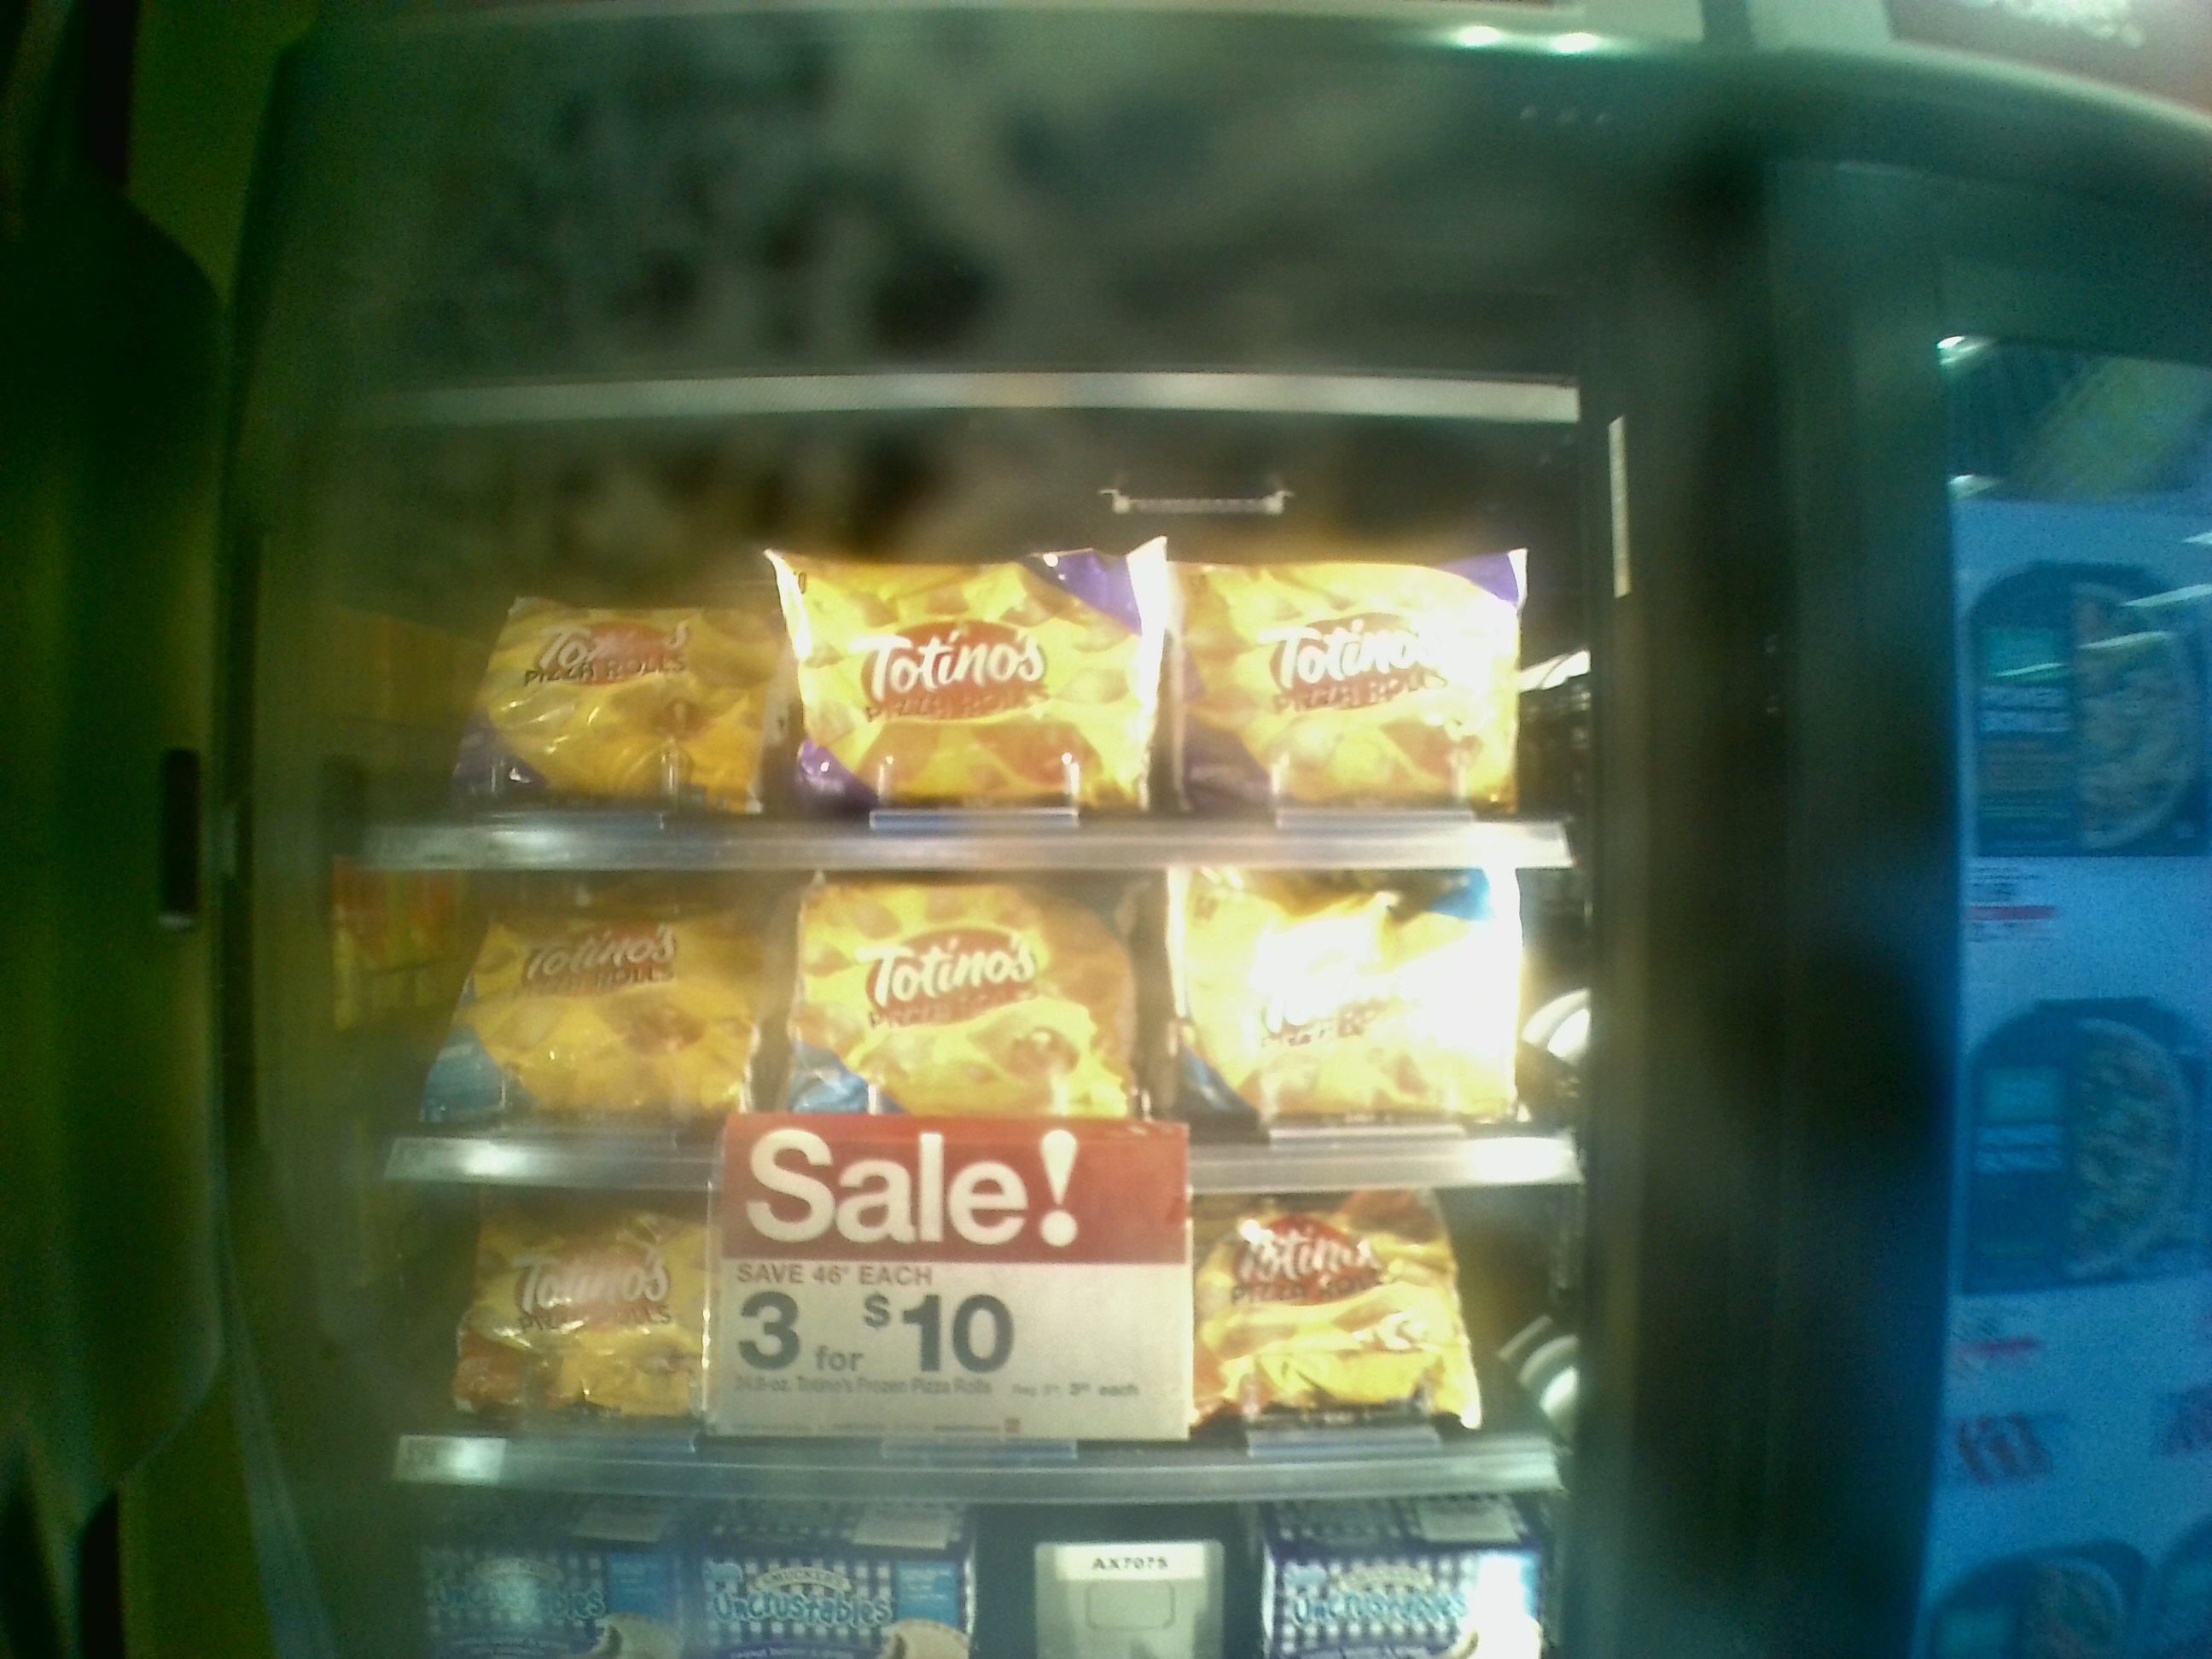shelf: (366, 1157, 1561, 1513), (329, 476, 1566, 817), (350, 838, 1566, 1175)
